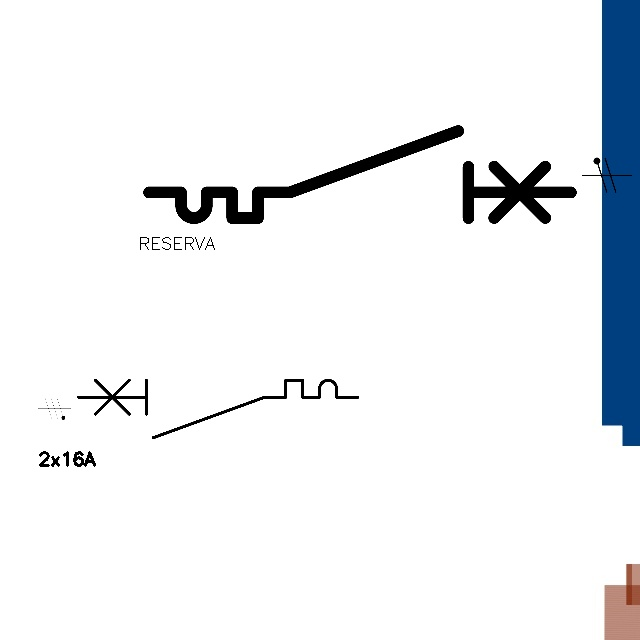interruptor_termomagnetico: (138, 120, 582, 229), (71, 373, 365, 445)
